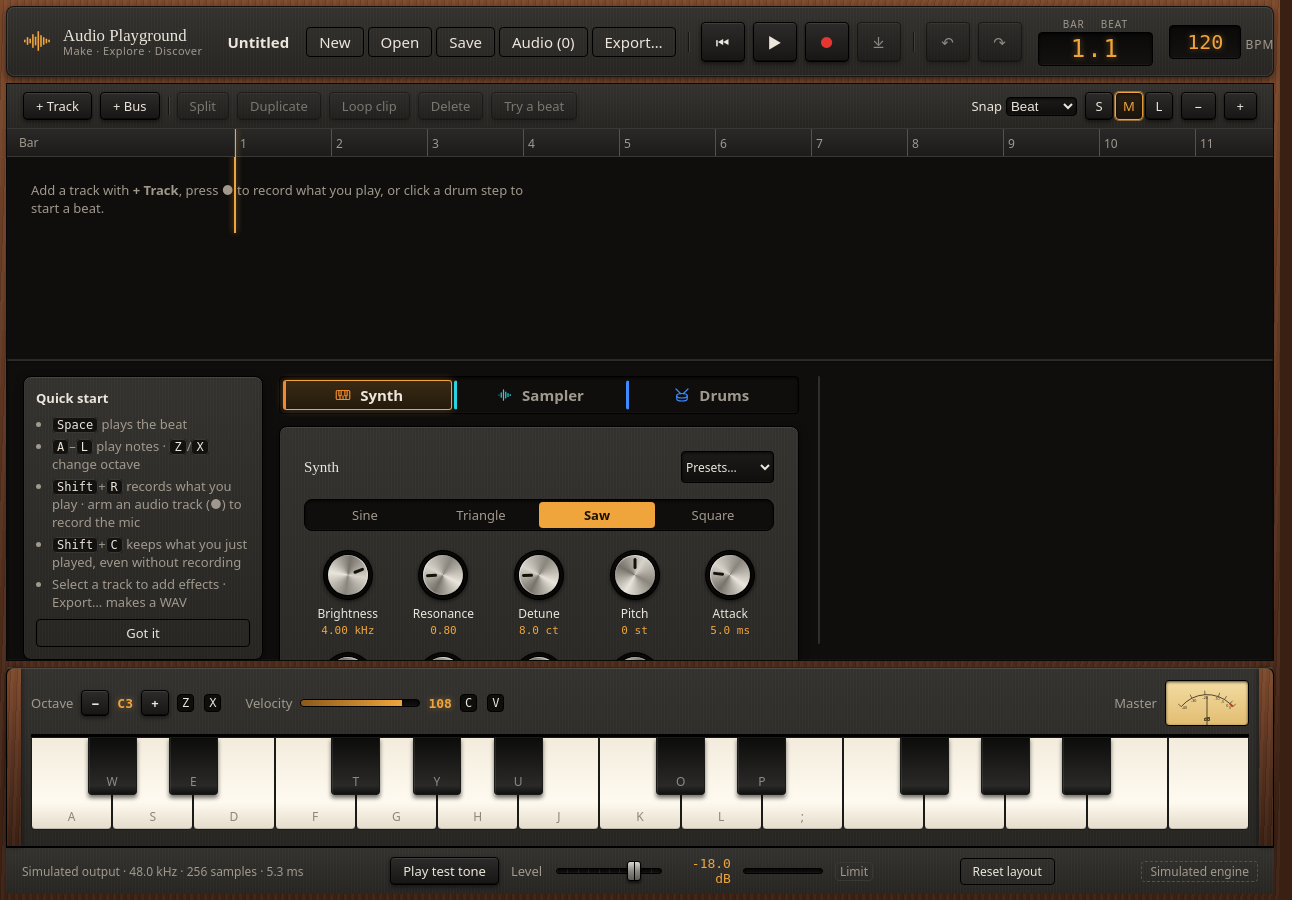
Test case: App › edits the selected track's effects, with presets and undo
This screenshot has width=1292, height=900.
Click the button "+ Track". click: (58, 106)
box: x1=23 y1=92 x2=92 y2=120
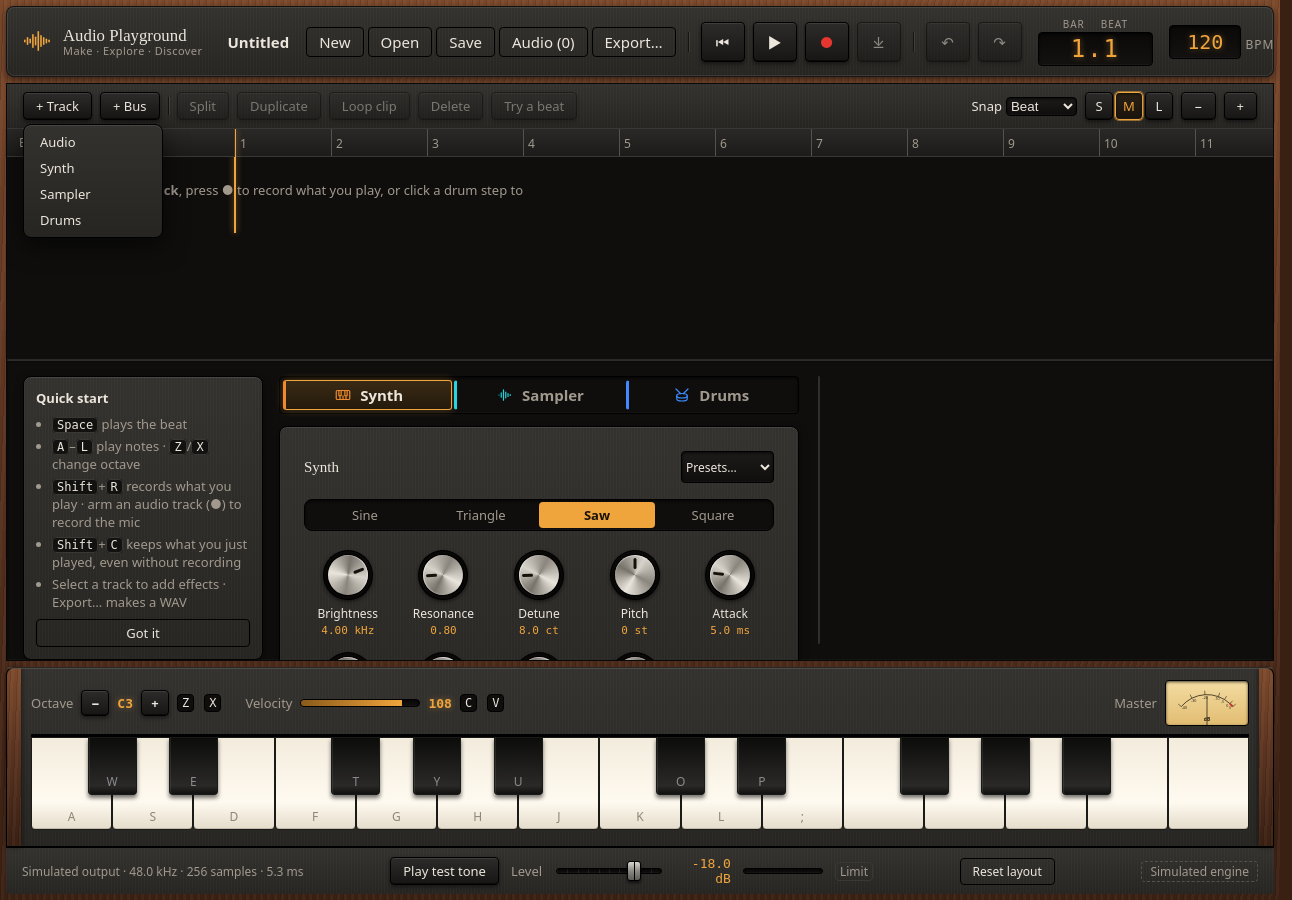
Click the menu item "Audio". click: (93, 142)
box: x1=28 y1=129 x2=158 y2=155
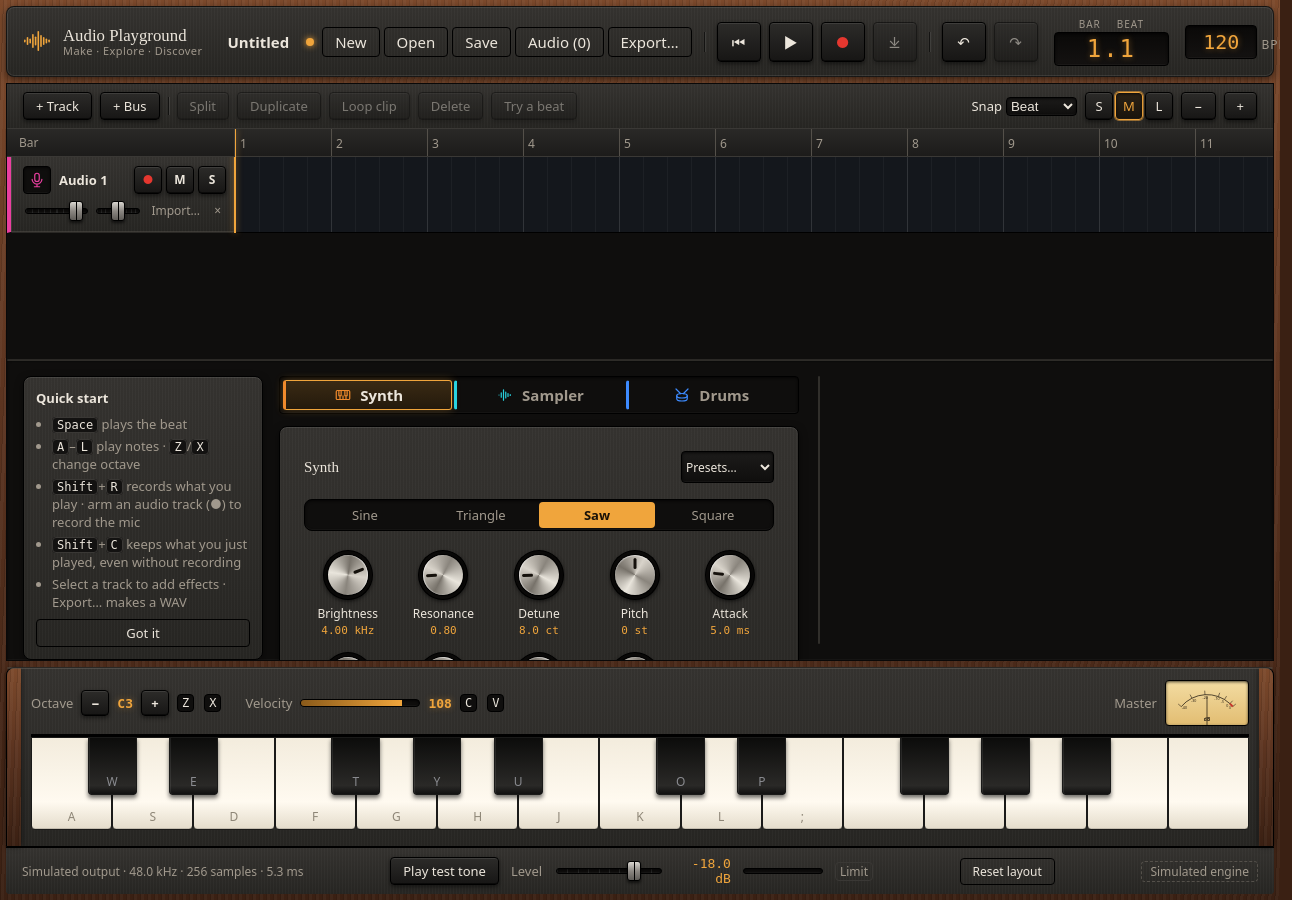
Press the mouse on the element named "Audio 1 track" at (121, 195), box x1=7 y1=157 x2=235 y2=233
(page scrolled)
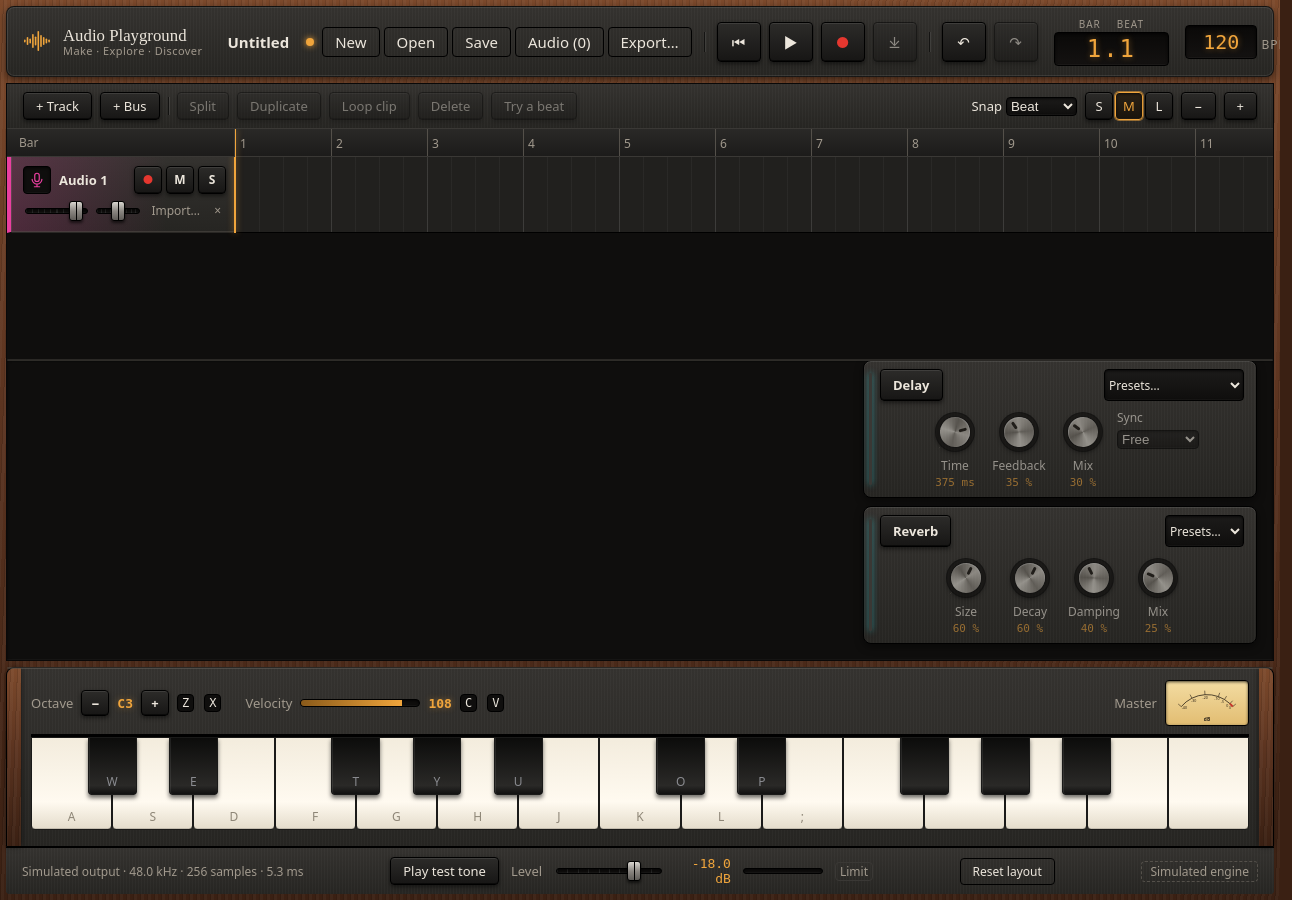
Click the button with aria-label "Reverb off". click: (916, 531)
box: x1=880 y1=515 x2=951 y2=547
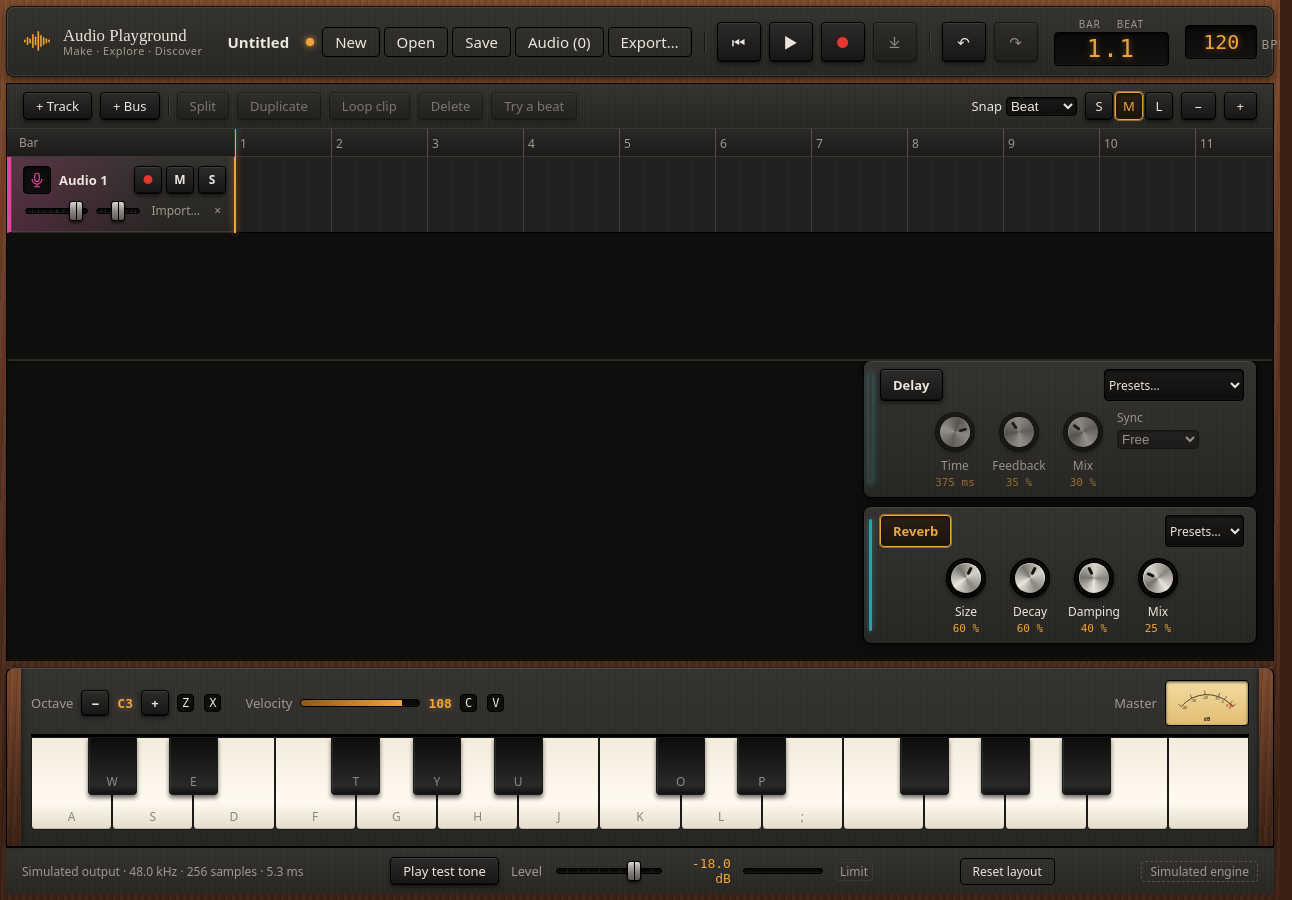
Check: the button with aria-label "Reverb on" is pressed, box x1=880 y1=515 x2=951 y2=547
Select "Space echo" in the dropdown named "Delay preset". click: (1174, 385)
box: x1=1104 y1=369 x2=1244 y2=401
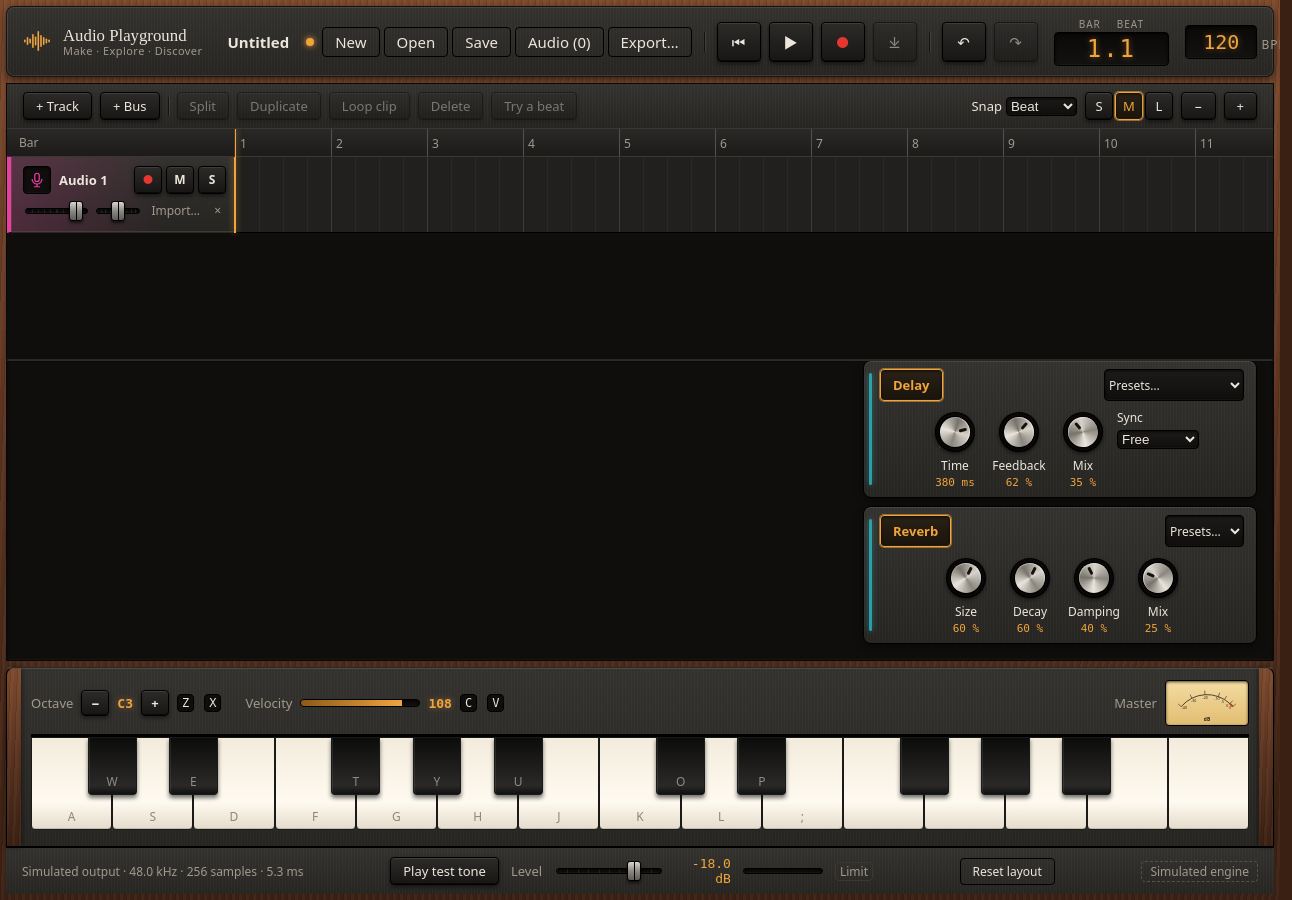
Check: the button with aria-label "Delay on" is shown, box x1=880 y1=369 x2=942 y2=401
Click the button named "undo". click: (964, 42)
box: x1=942 y1=22 x2=986 y2=62
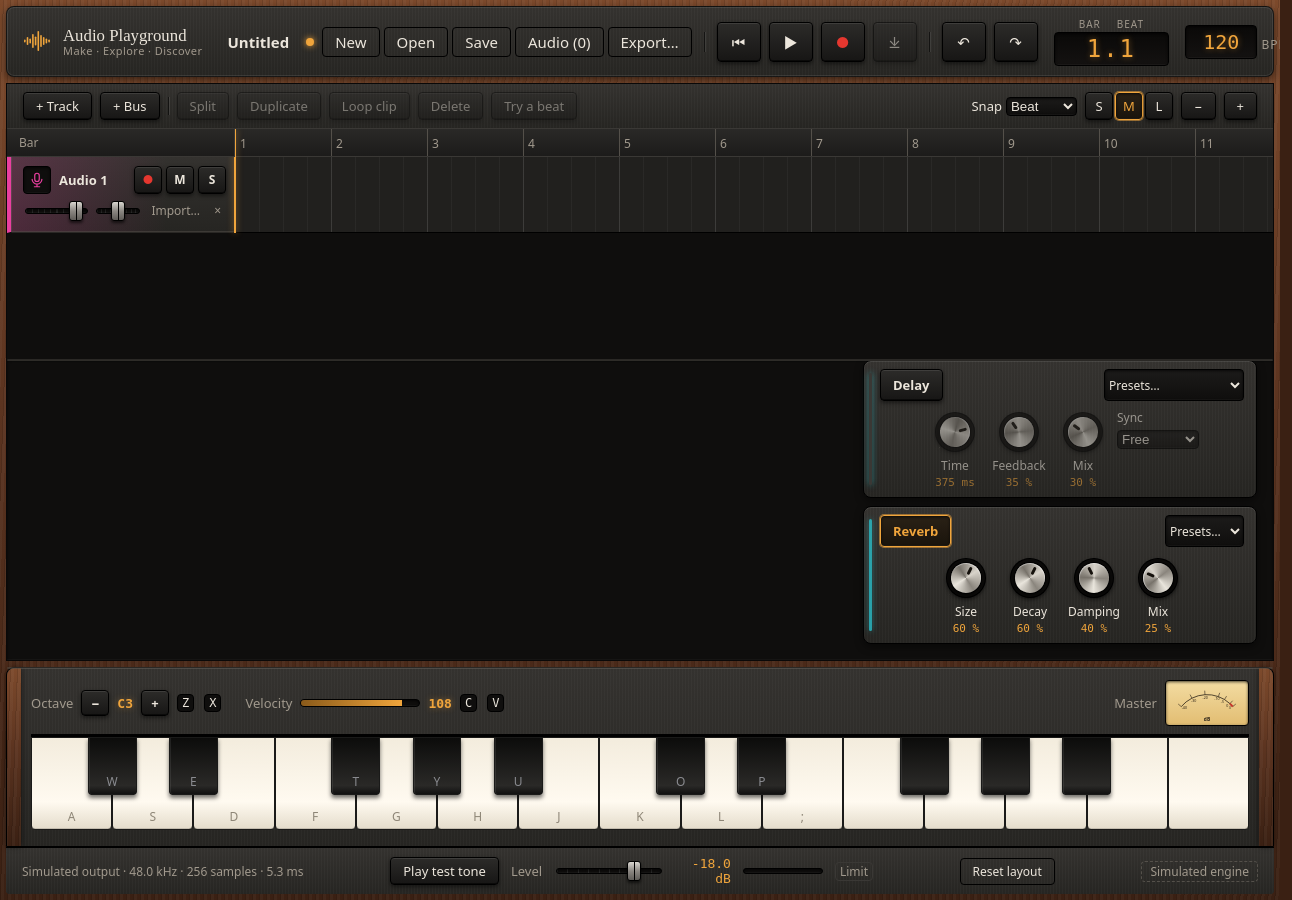
Check: the button with aria-label "Delay off" is shown, box x1=880 y1=369 x2=942 y2=401
